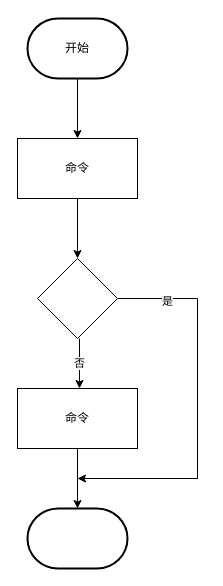
Image size: 223x586. Some labels were removed from this diagram. The centre of each missing label's shape, as x and y in pixels:
判断: pixel 77 298
结束: pixel 77 538
